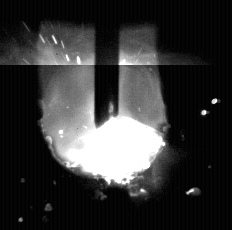arame: (95, 0, 120, 129)
poca: (62, 0, 162, 230)
